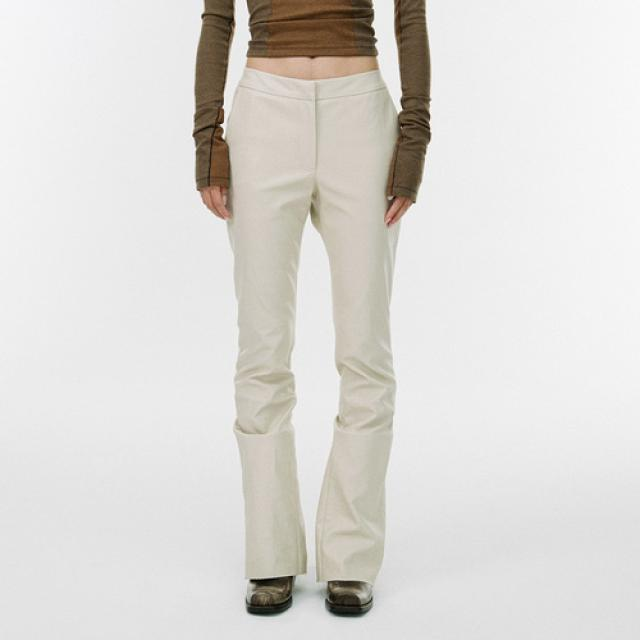Blouse_deep: (230, 81, 408, 581)
